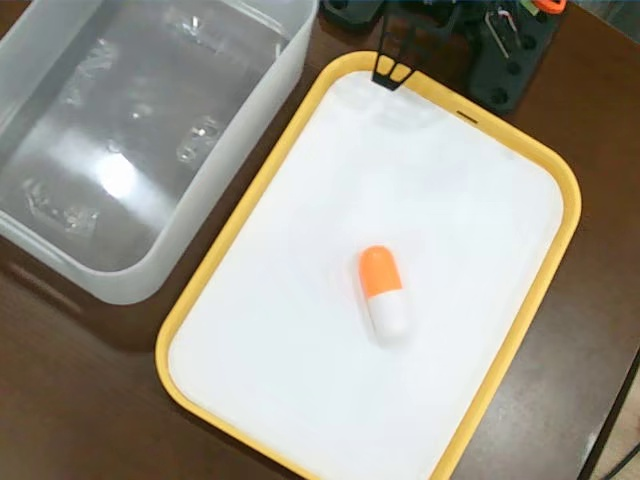pill: (352, 242, 422, 352)
